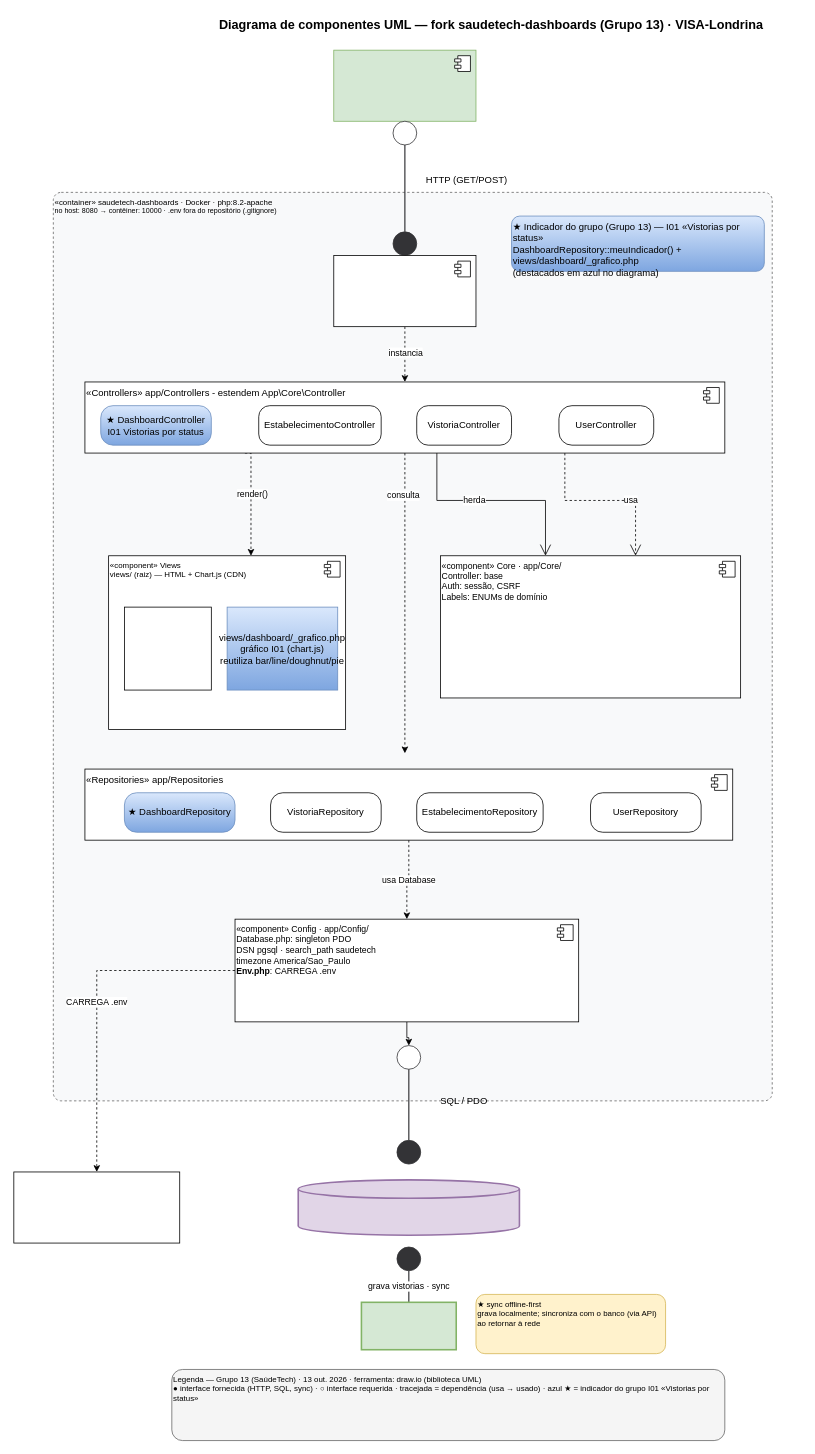
The diagram is 815 pixels wide and 1454 high, and some of its shapes have lost their labels. Each missing label, with the centre of its shape:
"dashboard/ · vistorias/ · estabelecimentos/ · users/ · auth/ · partials/" goes at point 167,648.
"«component» Roteador · public/index.php Sessão, login obrigatório, rotas" goes at point 404,291.
"«external» APP DO TABLET cria vistorias · sync" goes at point 408,1325.
"«external» Navegador (WEB) PAINEL VISA" goes at point 404,85.
"«external» PostgreSQL (Render) schema saudetech sslmode=require" goes at point 408,1207.
"«file» .env (segredos) Fora do repositório (.gitignore)" goes at point 96,1207.
